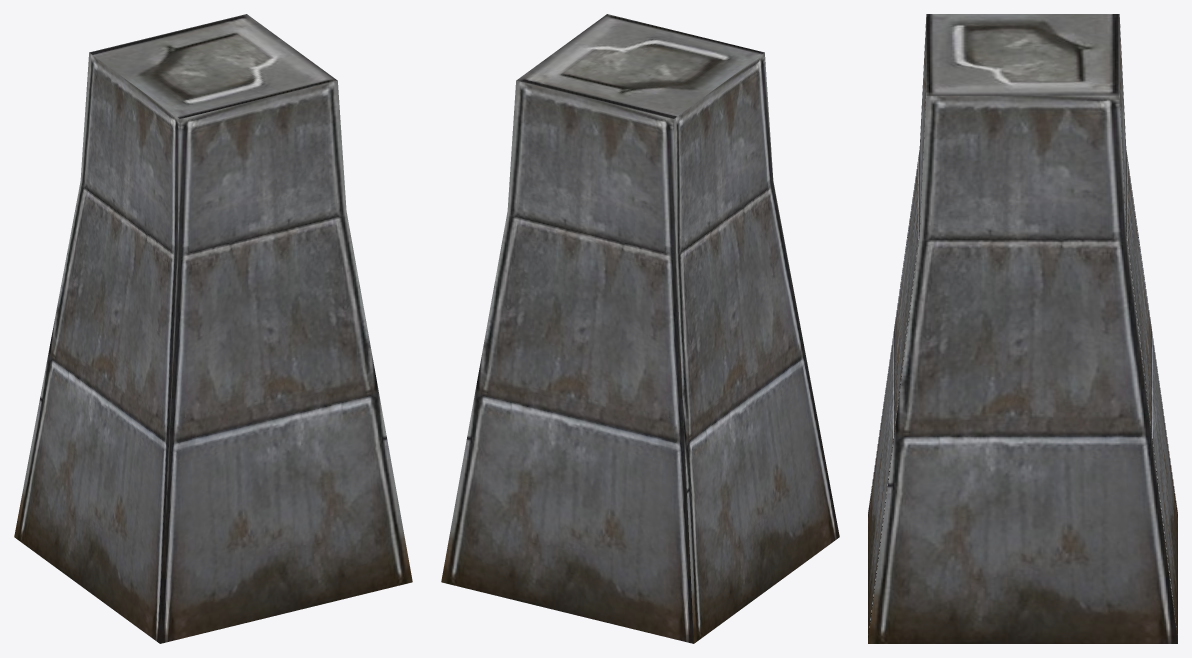
File: s_mediumpost_hdtex.glb
3 renders of one model, left to right at view 1: azimuth 30°, elevation 25°; view 2: azimuth 150°, elevation 25°; view 3: azimuth 270°, elevation 25°, orthographic. The views are drawn at different scales.
Visible parts, largest first — view 1: S_MediumWall; view 2: S_MediumWall; view 3: S_MediumWall.
Boxes of the visible parts, x1,y1,x2,y2 form: S_MediumWall: [14, 14, 412, 643]; S_MediumWall: [441, 14, 839, 643]; S_MediumWall: [868, 14, 1177, 643].
Size of the model in its own units: 6 by 11.19 by 6.
1 material, 1 textured.
